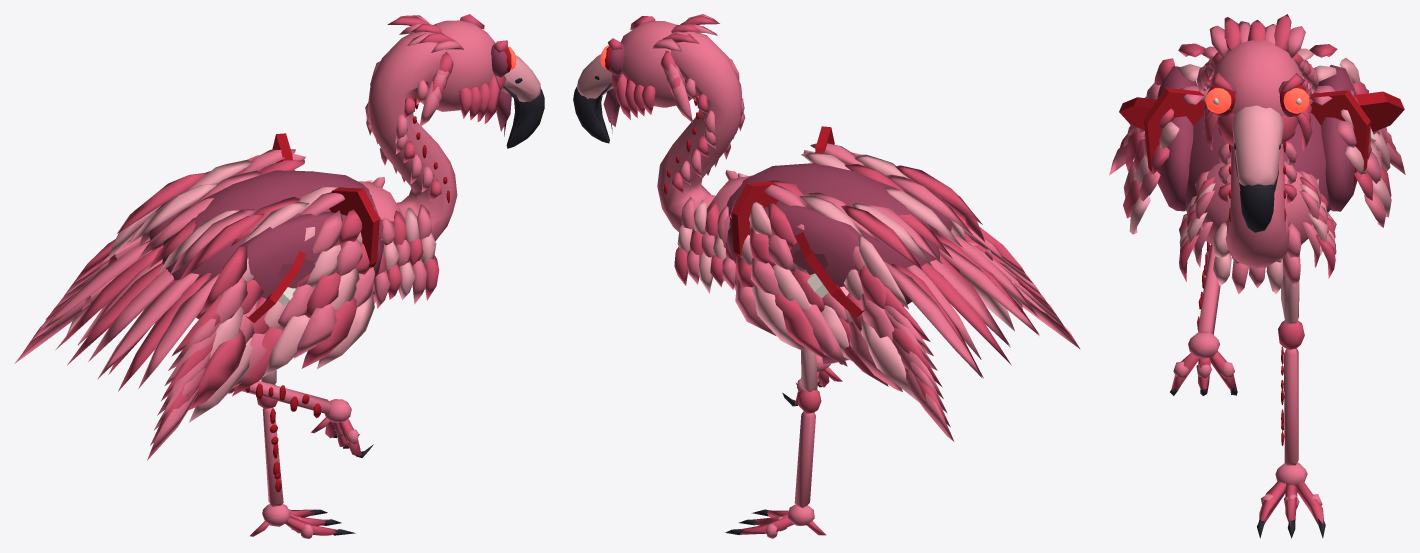
The model's file is inf.flamingo.glb.
3 views of the same model, side by side, from view 1: azimuth 30°, elevation 25°; view 2: azimuth 150°, elevation 25°; view 3: azimuth 270°, elevation 25° (orthographic). The views are drawn at different scales.
Parts seen in each view (by area): view 1: body, tail, head, neck, wingR, foreArmR, handR, handL, footL, stump_armR, shinL, footR (+3 smaller); view 2: body, head, neck, wingL, tail, handL, foreArmL, handR, shinL, footL, stump_armL, stump_foreArmL (+3 smaller); view 3: head, body, neck, wingR, wingL, shinL, footL, footR, stump_armR, stump_armL, foreArmR, foreArmL (+6 smaller).
Boxes of the visible parts, x1,y1,x2,y2 form: body: (117, 149, 439, 319); tail: (38, 240, 220, 391); head: (370, 14, 544, 148); neck: (365, 31, 457, 240); wingR: (200, 207, 383, 323); foreArmR: (232, 267, 375, 396); handR: (147, 294, 269, 460); handL: (14, 229, 152, 363); footL: (250, 504, 355, 538); stump_armR: (329, 187, 379, 267); shinL: (257, 383, 283, 506); footR: (311, 399, 373, 457); body: (674, 143, 982, 306); head: (573, 14, 739, 143); neck: (657, 31, 745, 231); wingL: (726, 199, 908, 309); tail: (884, 229, 1039, 378); handL: (839, 285, 954, 441); foreArmL: (735, 256, 852, 366); handR: (948, 215, 1080, 349); shinL: (794, 389, 821, 507); footL: (725, 504, 826, 538); stump_armL: (731, 181, 778, 259); stump_foreArmL: (795, 232, 864, 317); head: (1196, 14, 1318, 232); body: (1177, 43, 1337, 294); neck: (1218, 126, 1297, 268); wingR: (1144, 58, 1197, 211); wingL: (1318, 58, 1371, 211); shinL: (1278, 320, 1304, 465); footL: (1257, 462, 1325, 538); footR: (1170, 332, 1237, 395); stump_armR: (1143, 87, 1205, 186); stump_armL: (1310, 90, 1370, 185); foreArmR: (1123, 138, 1160, 234); foreArmL: (1354, 137, 1391, 227).
Bounding box in the file's own units: 1.58 × 1.6 × 0.7776.
